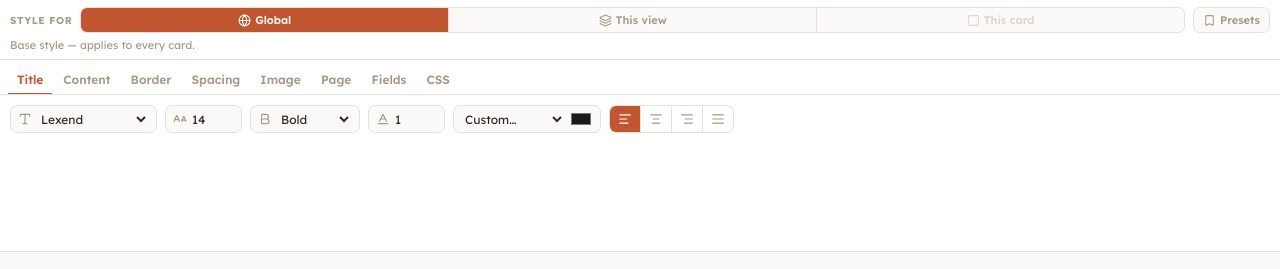
Test: StyleControls (scope switcher: Global / This view / This card) › controls show the value AT the selected scope: base at Global, the override at This view
The image size is (1280, 269).
Click the tab "Border": [151, 80] box [122,66,181,95]
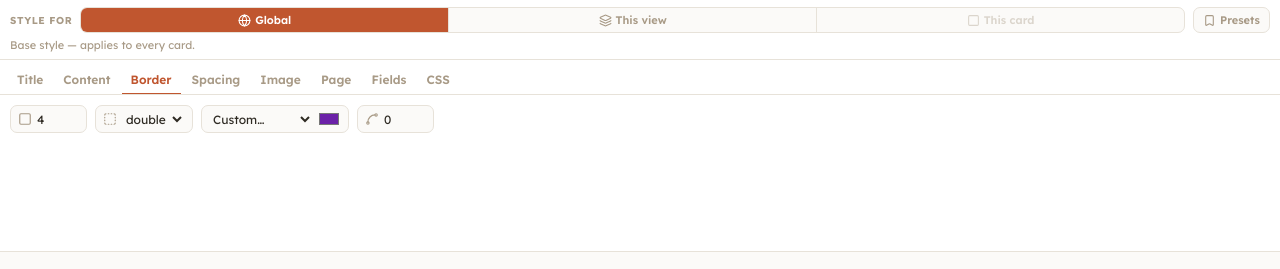
Expected: the number field named "Width" holds "4", [37,112,79,126]
Click the tab "This view": [633, 20] box [449,8,817,32]
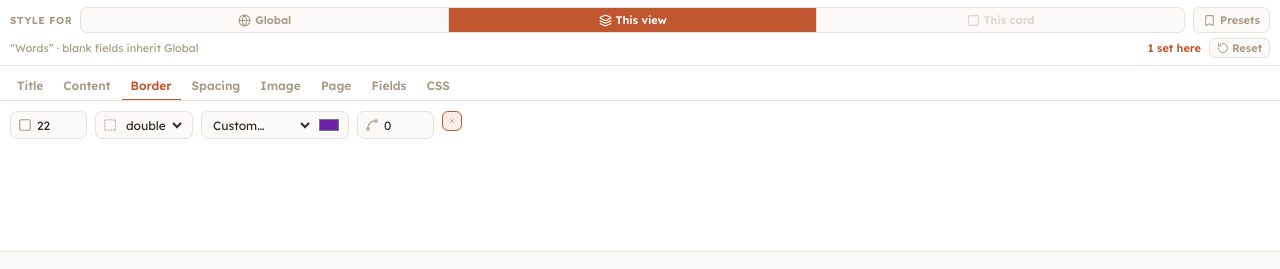
Expected: the number field named "Width" holds "22", [37,118,79,132]
